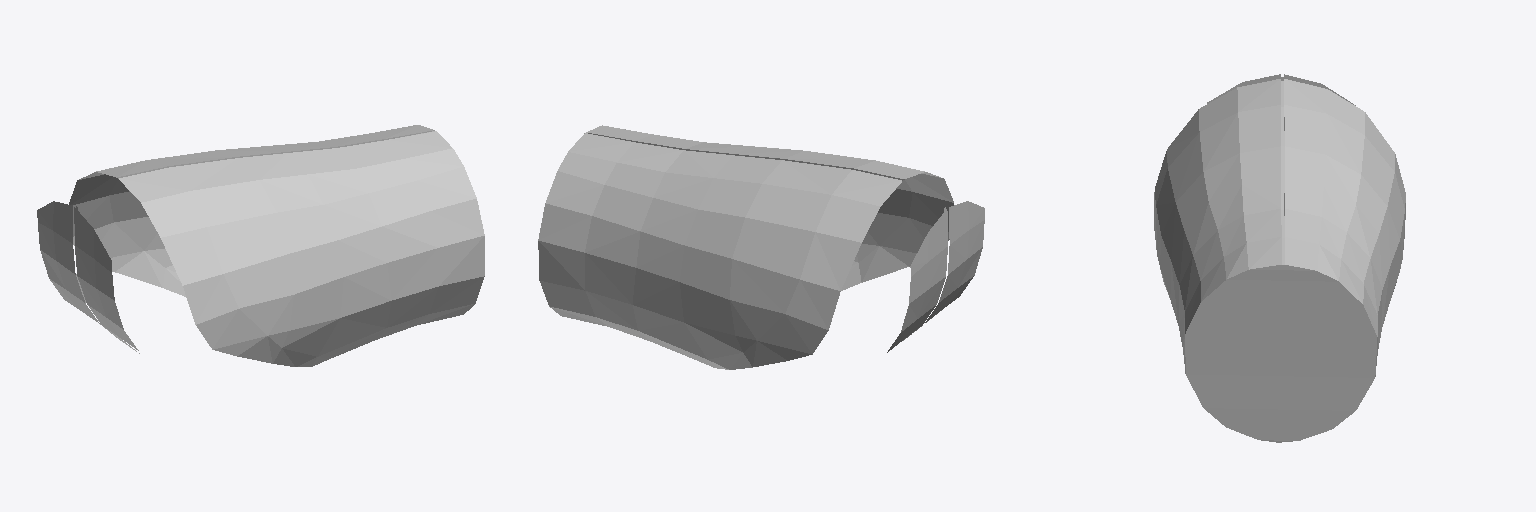
File: LElbowRoll_1.obj
3 renders of one model, left to right at view 1: azimuth 30°, elevation 25°; view 2: azimuth 150°, elevation 25°; view 3: azimuth 270°, elevation 25°, orthographic.
Bounding box in the file's own units: 0.1207 × 0.0701 × 0.0725.